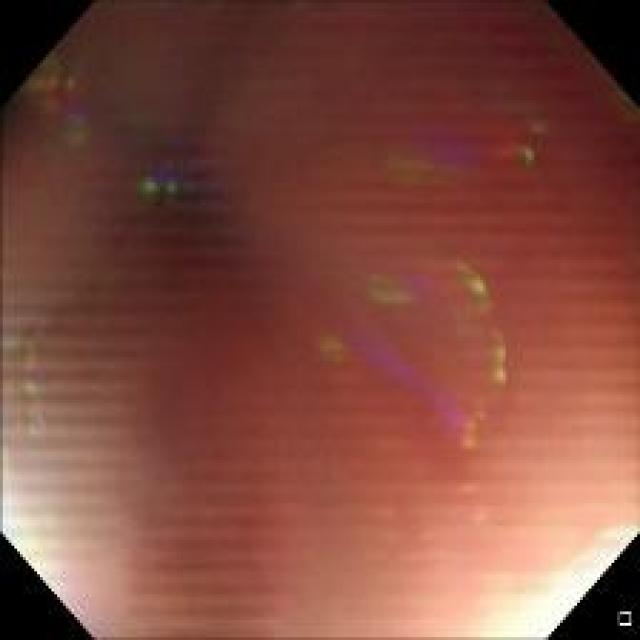color misalignment: (21, 20, 565, 546), (315, 254, 511, 450), (375, 99, 546, 189), (25, 46, 98, 148), (125, 149, 196, 205)
saturation: (6, 398, 119, 626), (502, 519, 630, 631)
